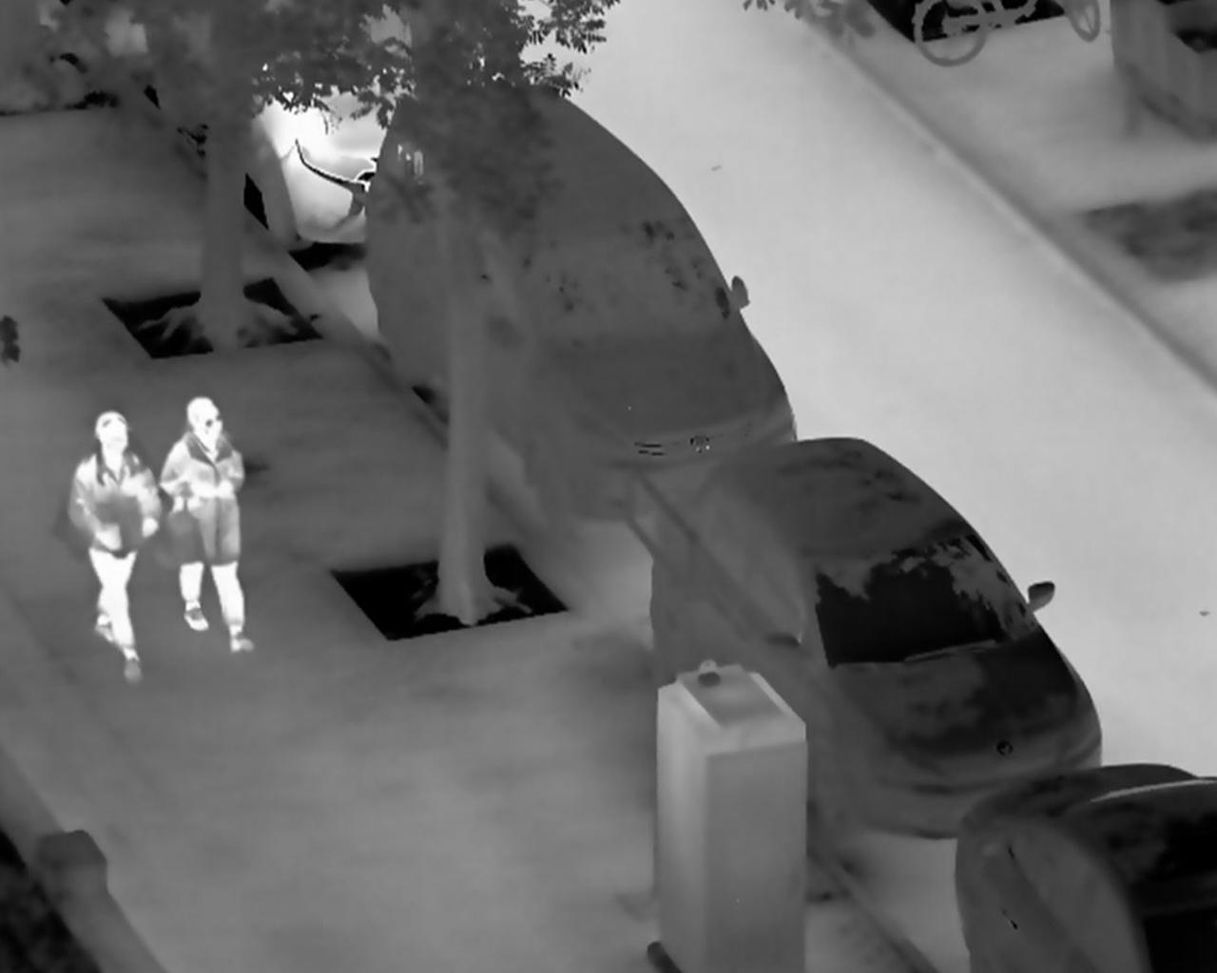person: (65, 407, 164, 684), (160, 394, 257, 653)
